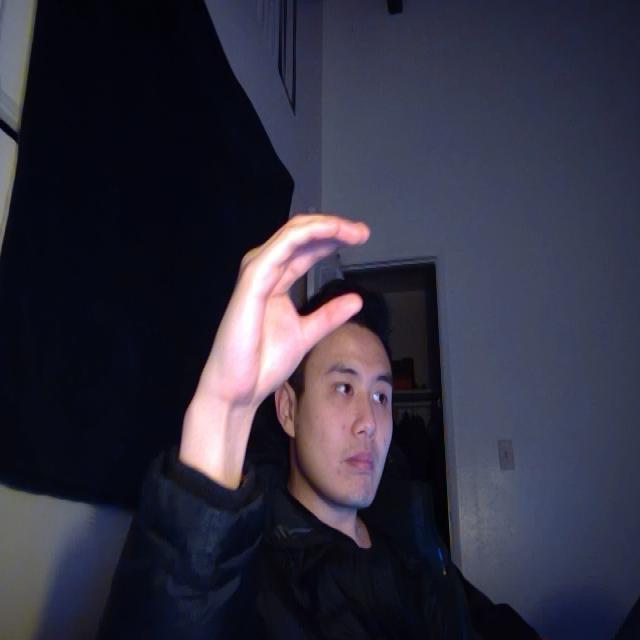C: (165, 148, 377, 439)
